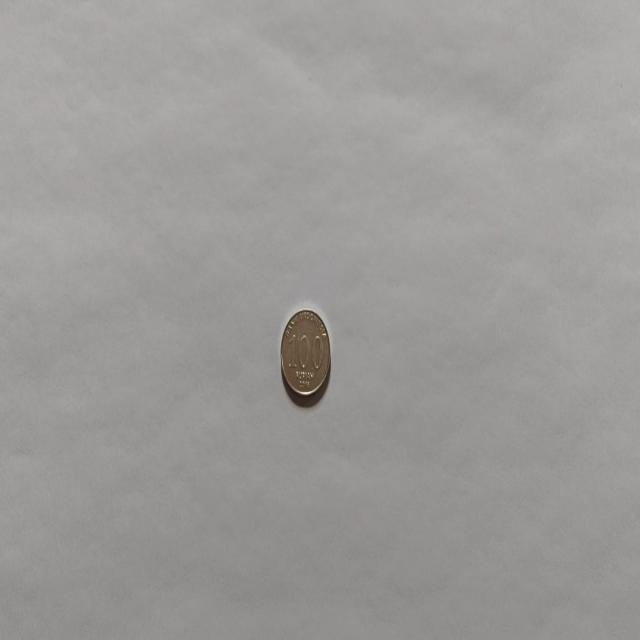seratus rupiah: (279, 306, 331, 401)
